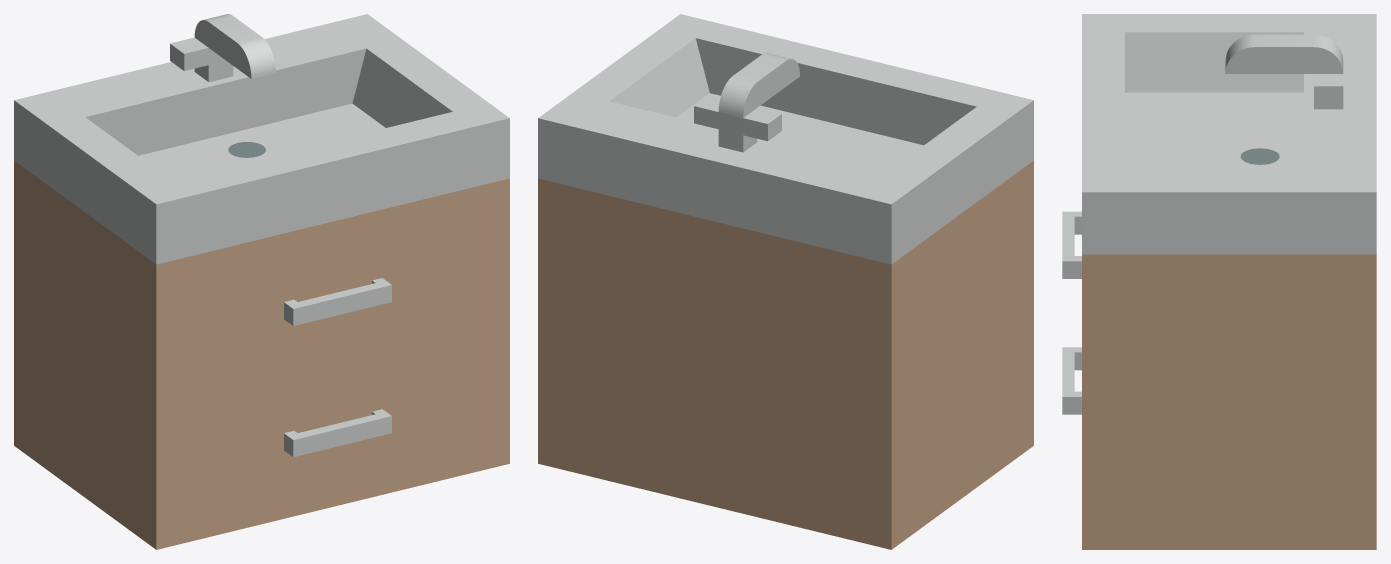
The model's file is bathroomCabinetDrawer.glb.
3 views of the same model, side by side, from view 1: azimuth 30°, elevation 25°; view 2: azimuth 150°, elevation 25°; view 3: azimuth 270°, elevation 25° (orthographic). The views are drawn at different scales.
Parts seen in each view (by area): view 1: bathroomCabinetDrawer; view 2: bathroomCabinetDrawer; view 3: bathroomCabinetDrawer.
Boxes of the visible parts, <box> form: bathroomCabinetDrawer: <box>14,14,509,549</box>; bathroomCabinetDrawer: <box>538,14,1033,549</box>; bathroomCabinetDrawer: <box>1062,14,1376,549</box>.
Size of the model in its own units: 0.43 by 0.4718 by 0.32.
